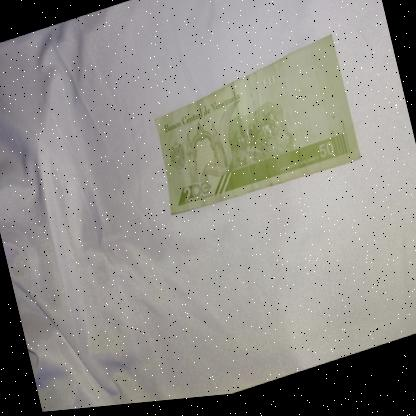fifty-back-vef: (144, 39, 362, 226)
